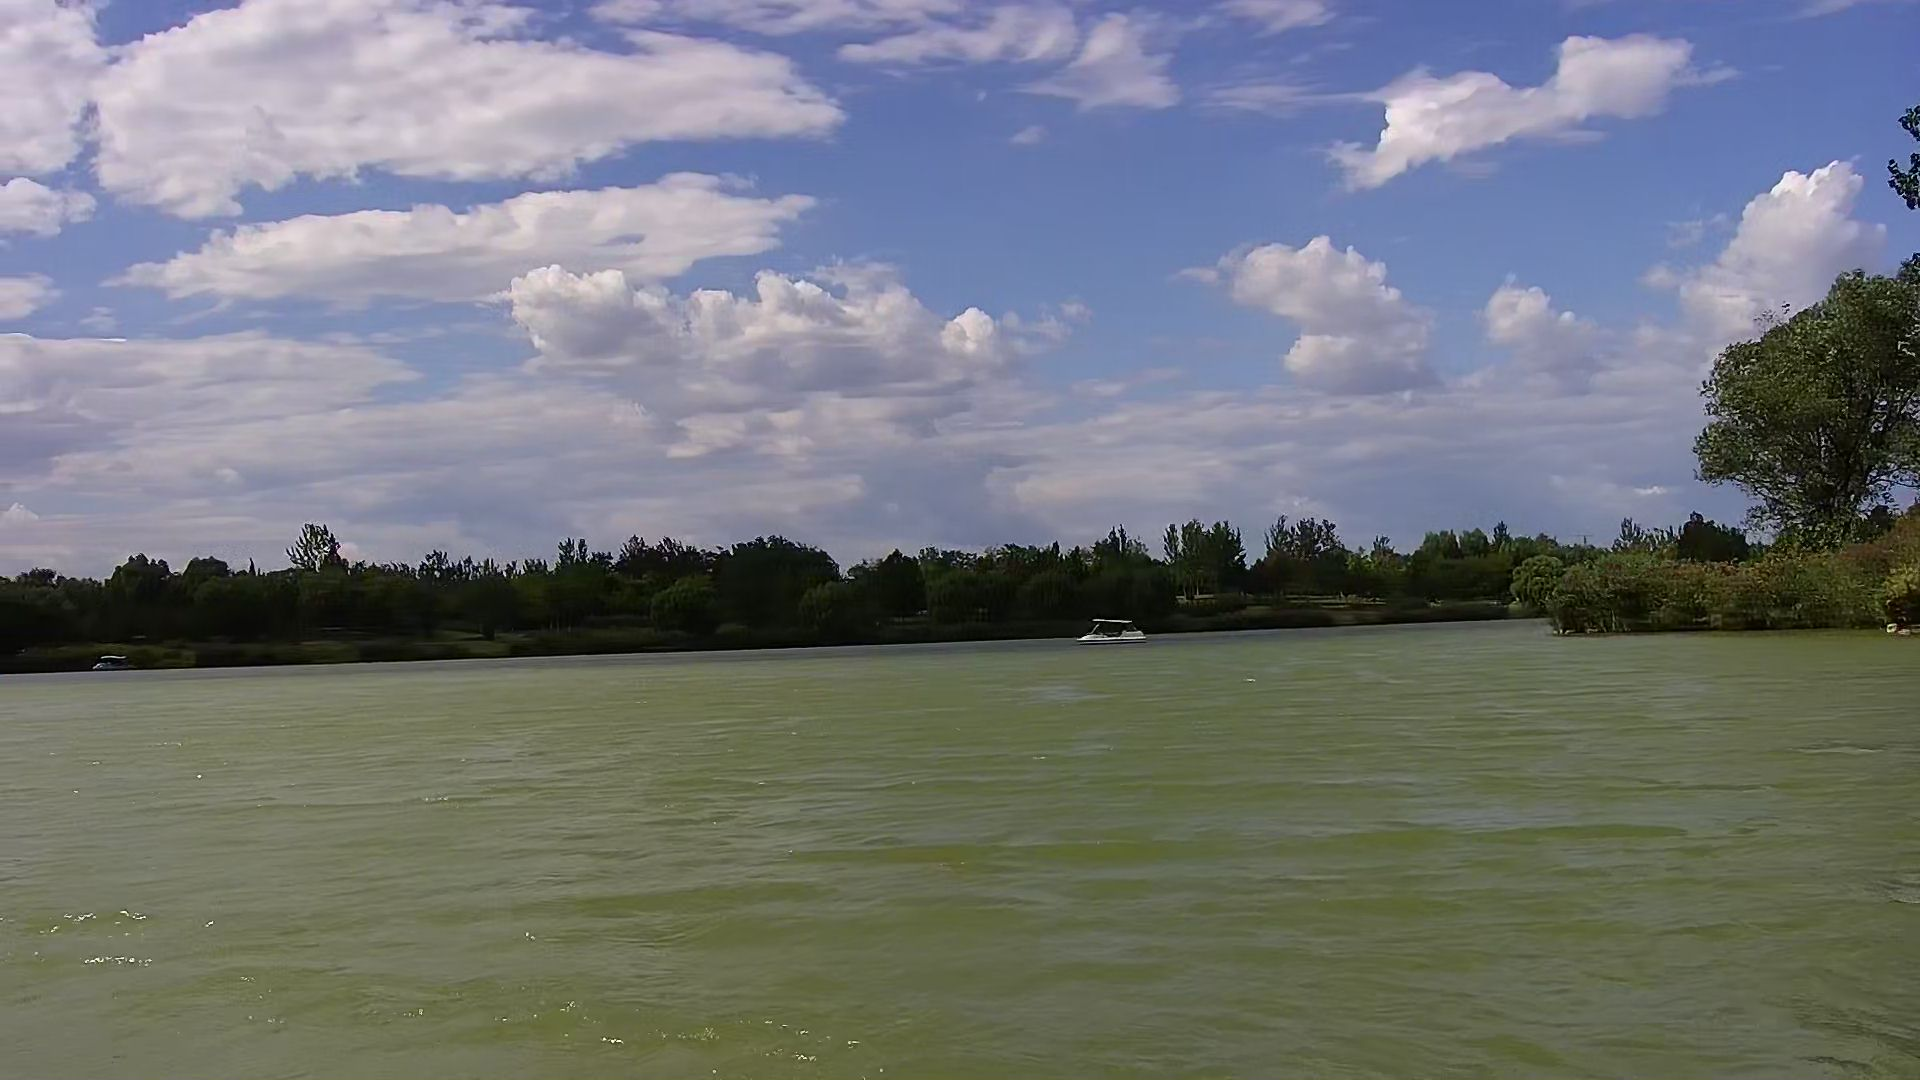boat: (1063, 615, 1154, 650), (87, 650, 138, 676)
